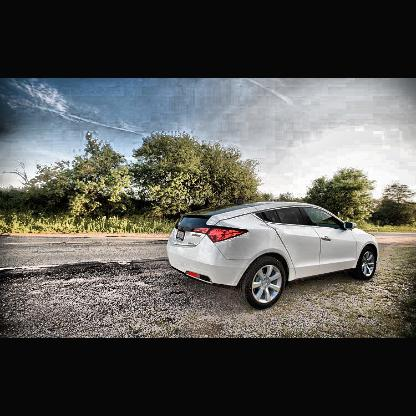Acura ZDX Hatchback 2012: (168, 201, 381, 310)
